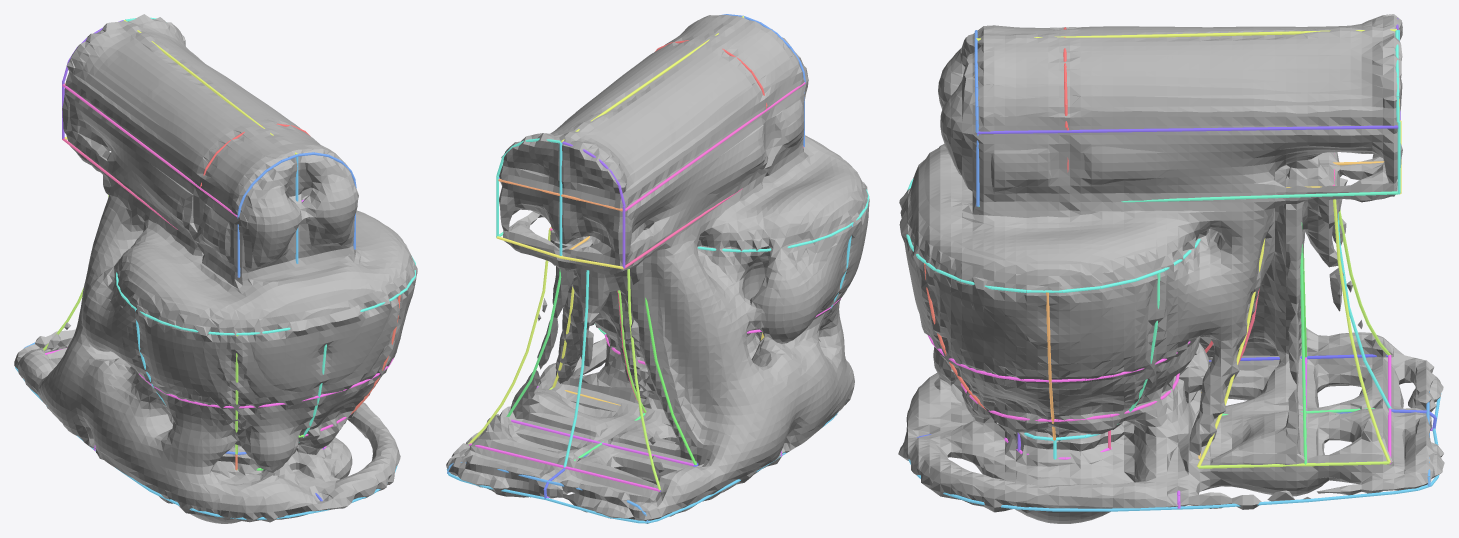
File: t2f_blender.gltf
3 renders of one model, left to right at view 1: azimuth 30°, elevation 25°; view 2: azimuth 150°, elevation 25°; view 3: azimuth 270°, elevation 25°, orthographic. The views are drawn at different scales.
Size of the model in its own units: 0.4793 by 0.6599 by 0.6872.
